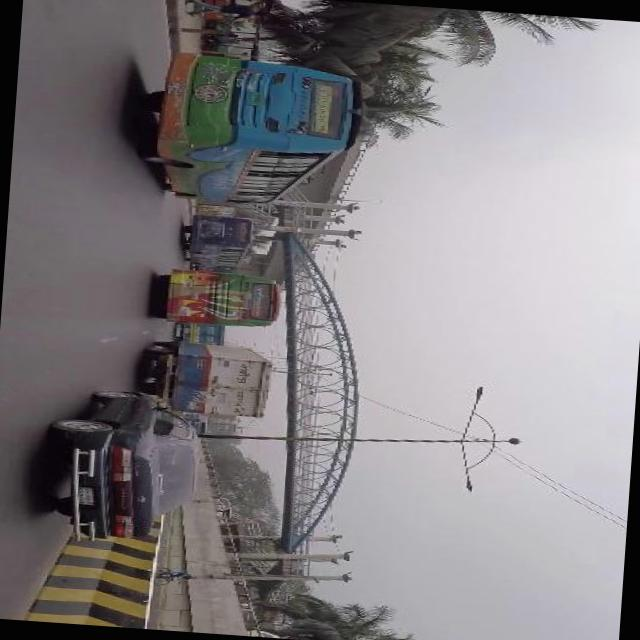bus: (134, 48, 368, 213), (150, 265, 282, 330), (180, 211, 256, 269)
car: (39, 383, 204, 550)
truck: (140, 340, 274, 419), (176, 322, 227, 344)
